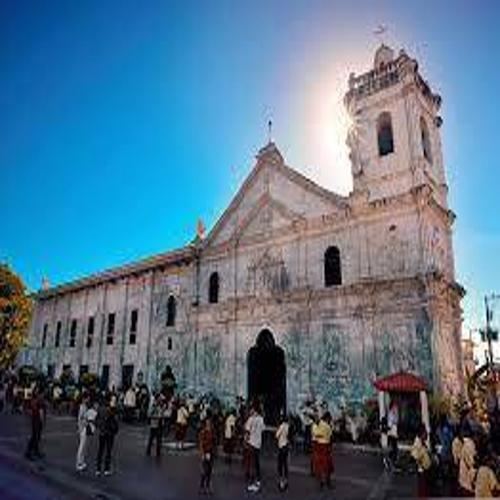Sto. Nino Basilica Church: (195, 16, 470, 453)
